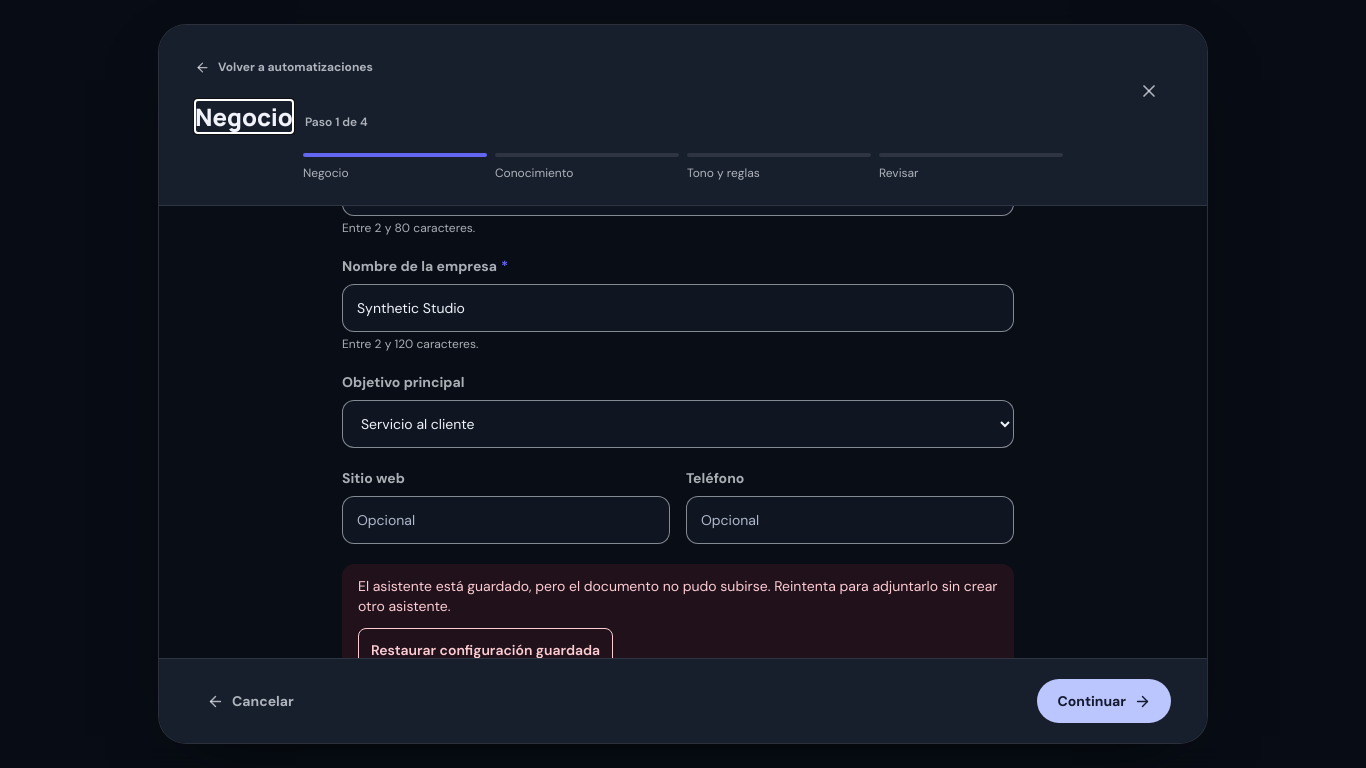
Test: real component, synthetic services only › retries failed upload on the same agent; changed partial configuration is never silently discarded
The image size is (1366, 768).
Earlier steps of the test are not shown.
Later steps or results of the test are not shown.
(page scrolled)
Click the button "Continuar" at (1104, 701), box [1037,679,1171,723]
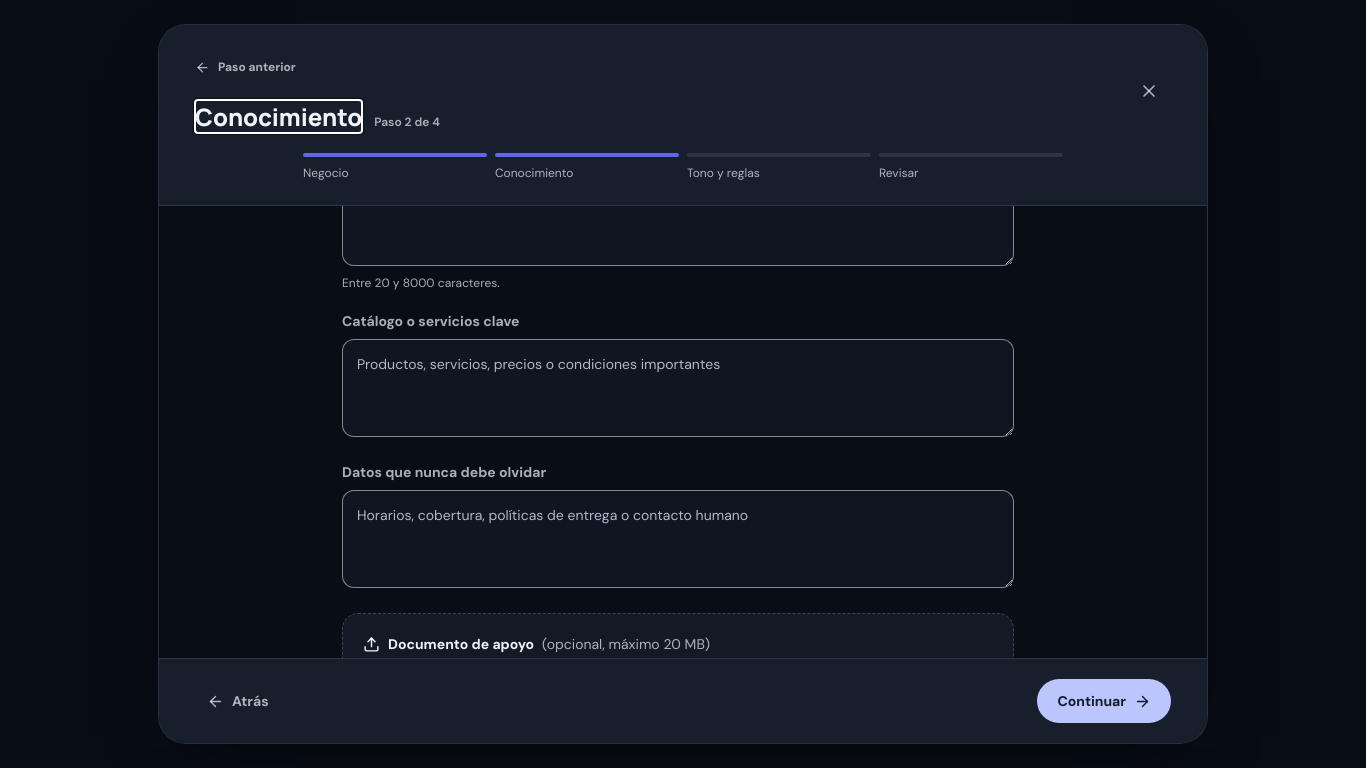
Click the button "Continuar" at (1104, 701), box [1037,679,1171,723]
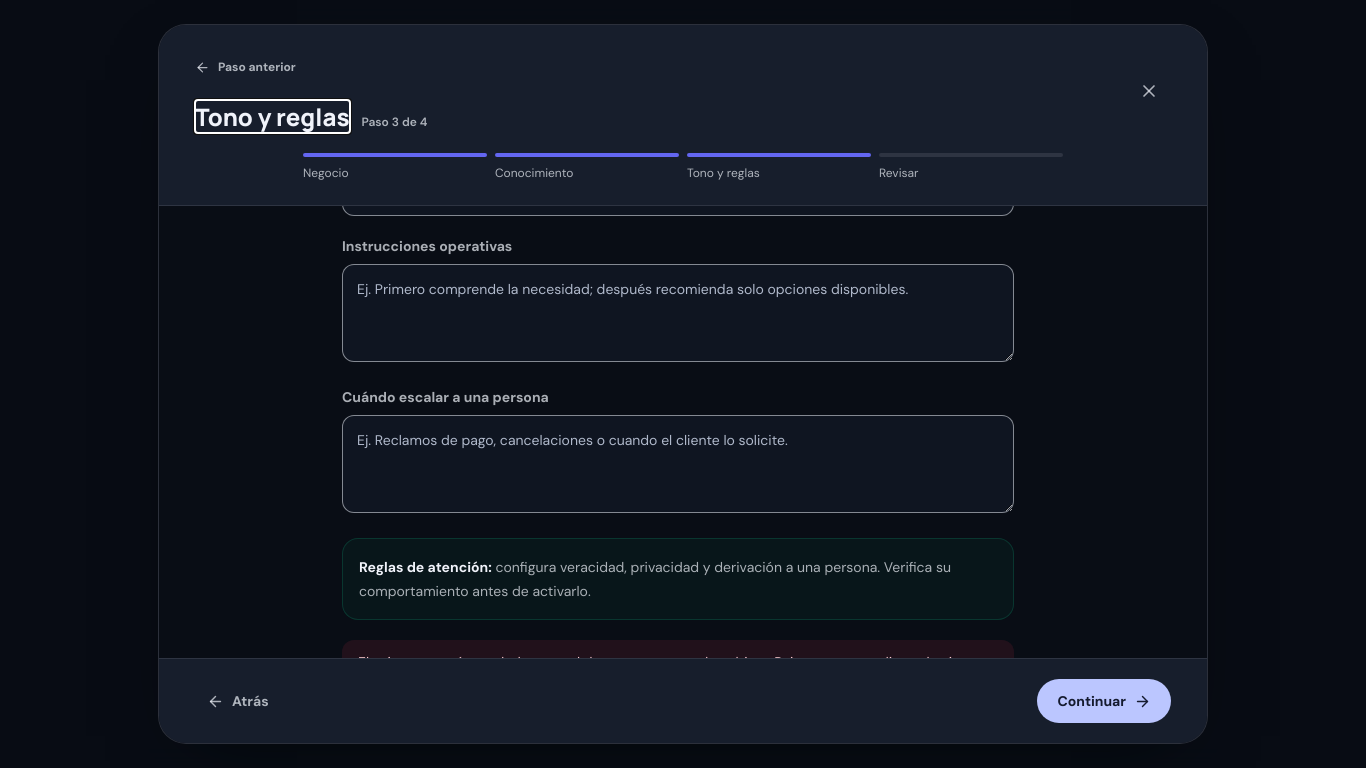
Click the button "Continuar" at (1104, 701), box [1037,679,1171,723]
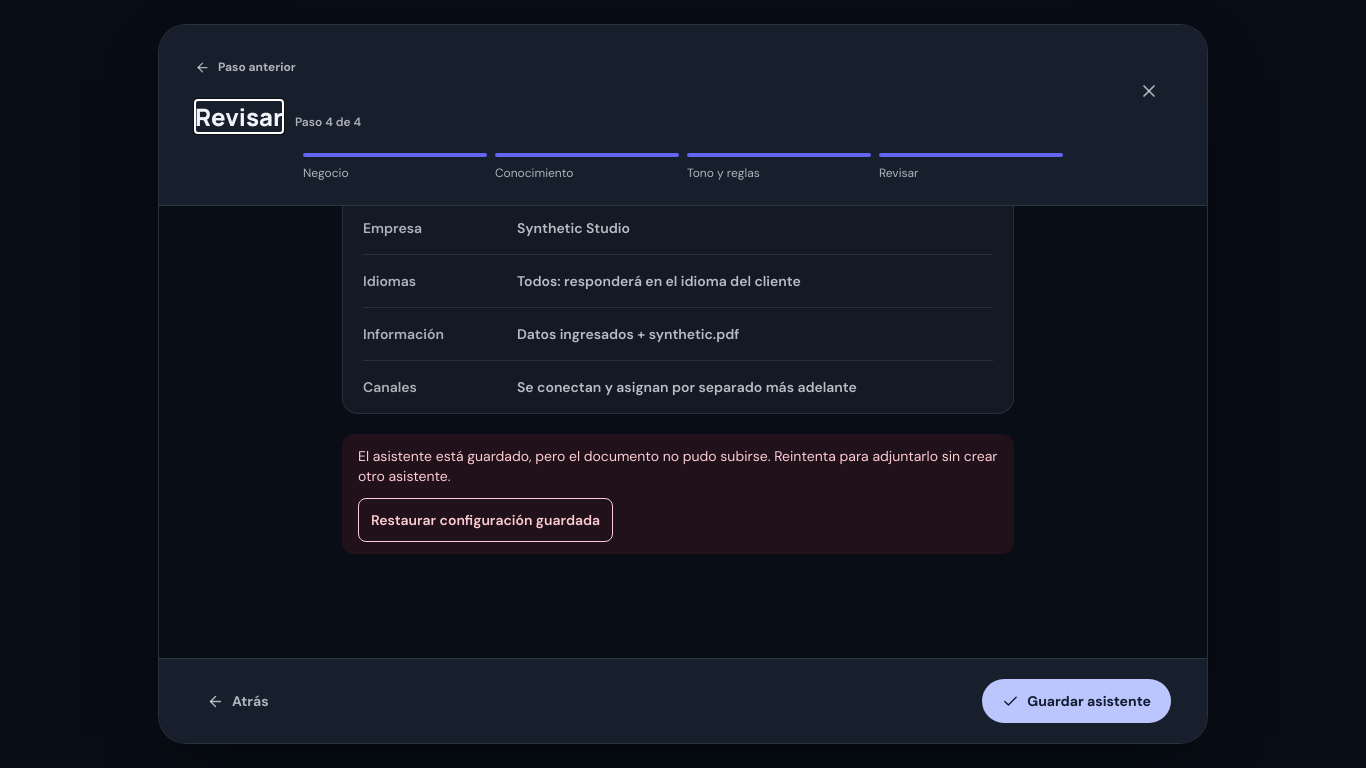
Click the button "Guardar asistente" at (1077, 701), box [982,679,1171,723]
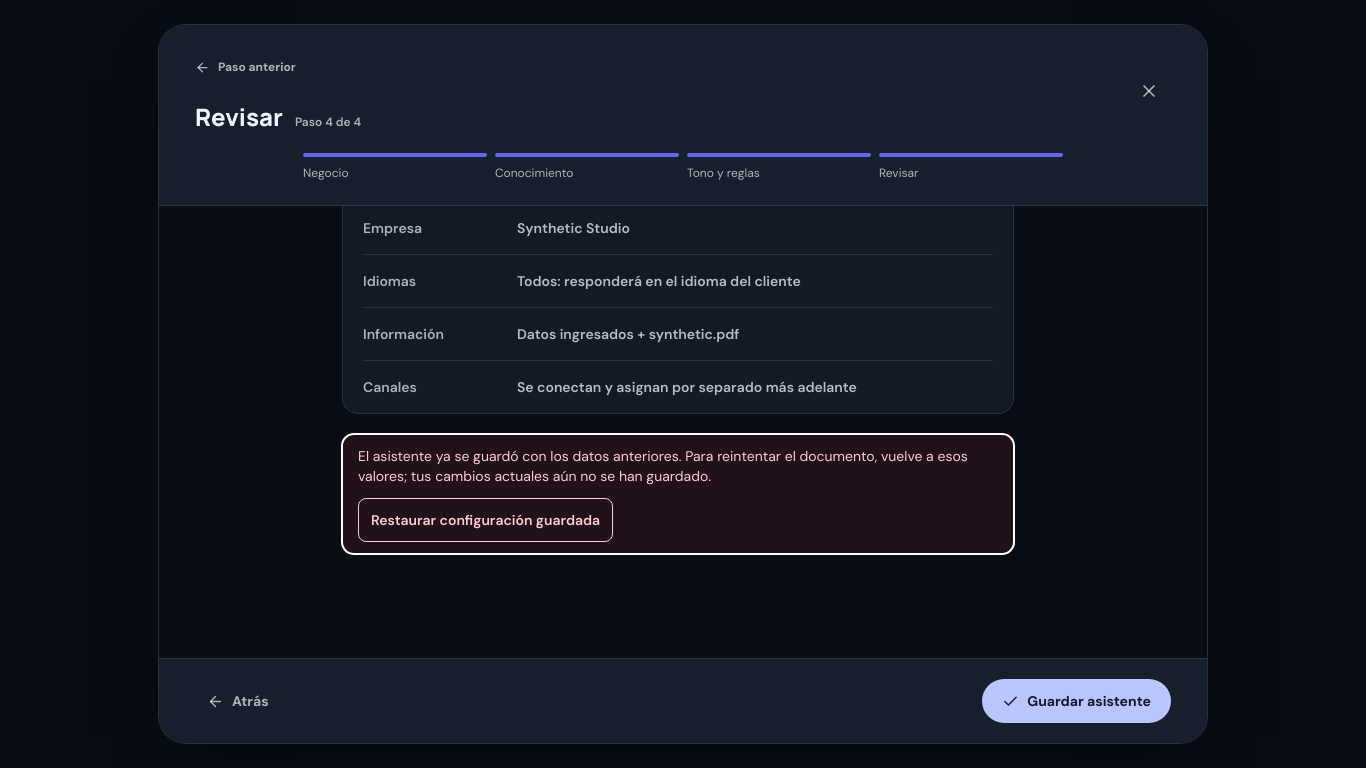
Check: the message shows "tus cambios actuales aún no se han guardado", box [358,447,968,485]
